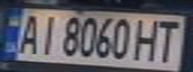0: (112, 16, 136, 61), (78, 14, 100, 58)
6: (93, 15, 115, 60)
8: (57, 12, 81, 56)
A: (12, 11, 45, 55)
H: (130, 16, 163, 62)
I: (33, 11, 60, 56)
T: (151, 17, 184, 63)
